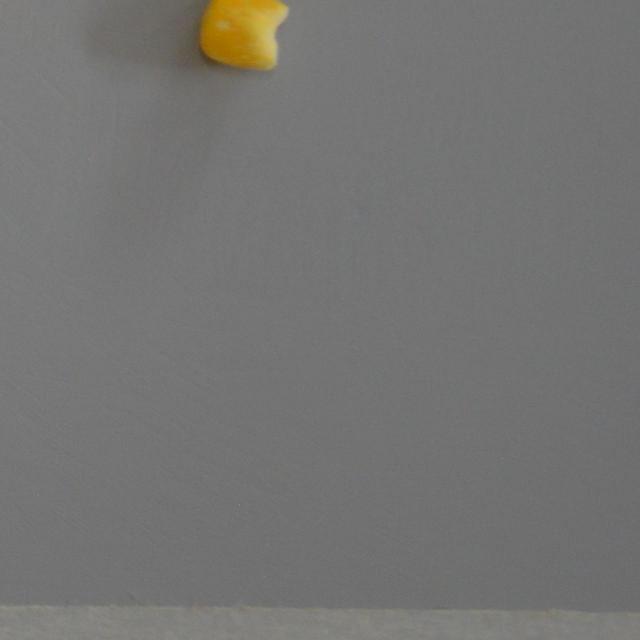no_canjicado: (196, 0, 290, 72)
